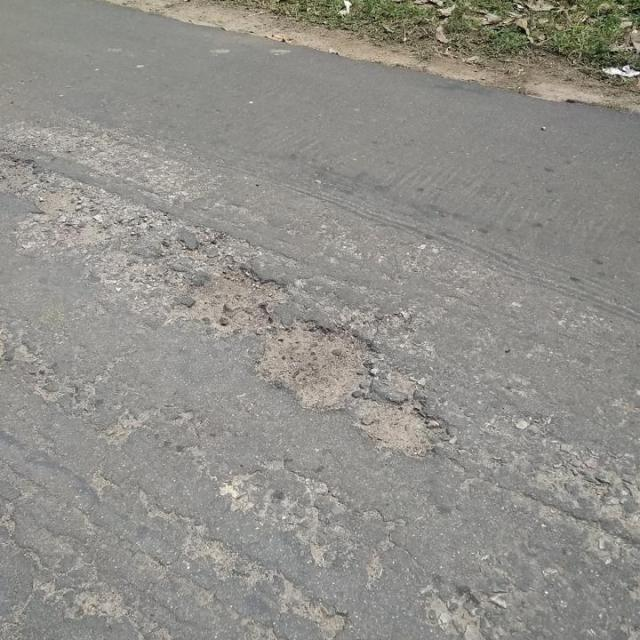Pothole: (0, 148, 124, 247), (250, 318, 378, 412), (183, 259, 288, 337), (354, 394, 448, 464)
